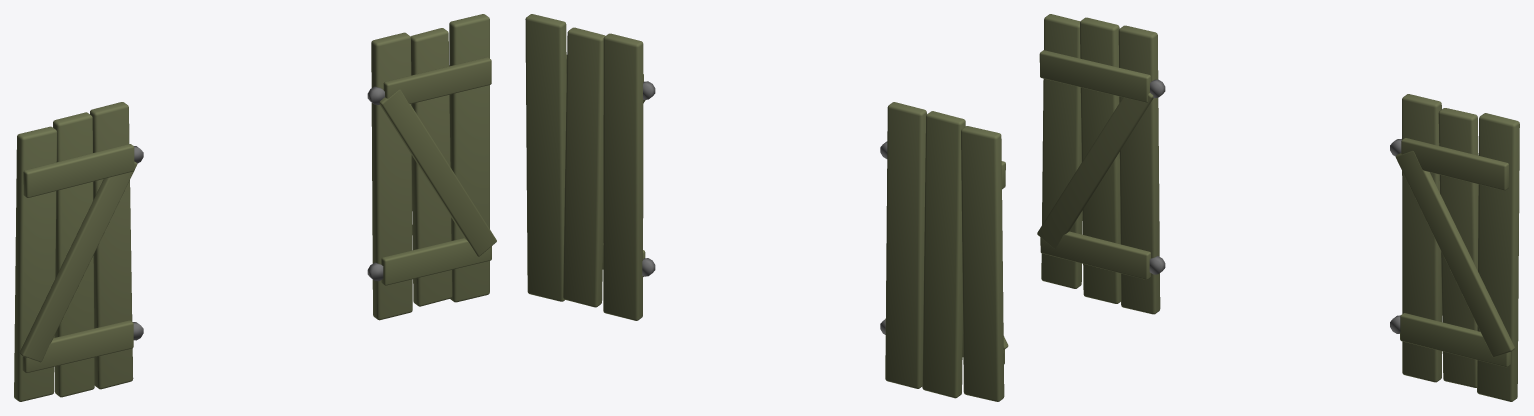
File: tg_shutters_z.glb
3 renders of one model, left to right at view 1: azimuth 30°, elevation 25°; view 2: azimuth 150°, elevation 25°; view 3: azimuth 330°, elevation 25°, orthographic.
Parts seen in each view (by area): view 1: shutters_tg_z; view 2: shutters_tg_z; view 3: shutters_tg_z.
Boxes of the visible parts, bbox=[...] form: shutters_tg_z: bbox=[14, 14, 496, 401]; shutters_tg_z: bbox=[525, 14, 1008, 401]; shutters_tg_z: bbox=[1037, 14, 1519, 401].
Size of the model in its own units: 1.92 by 1.07 by 0.0856.
